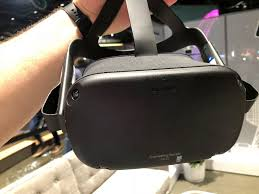oculus: (61, 38, 251, 173)
